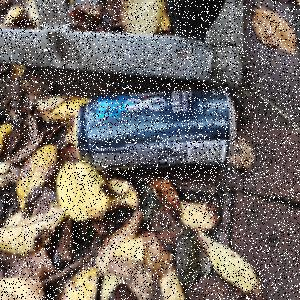Can: (76, 88, 238, 172)
